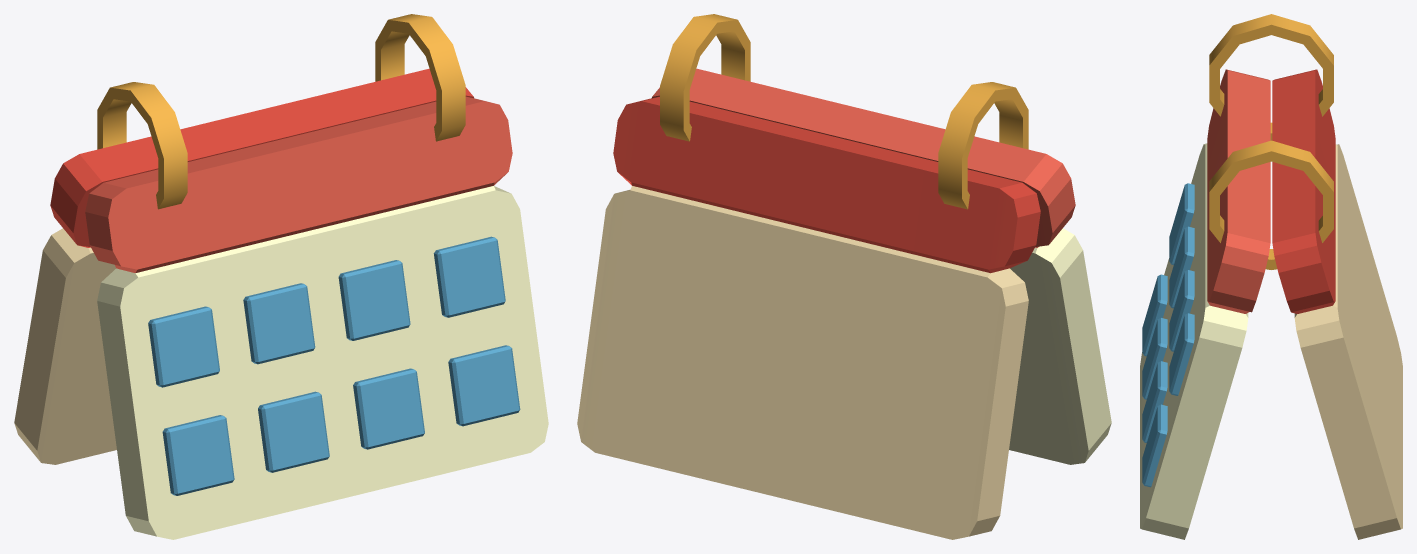
The model's file is Calendar1.fbx.
3 renders of one model, left to right at view 1: azimuth 30°, elevation 25°; view 2: azimuth 150°, elevation 25°; view 3: azimuth 270°, elevation 25°, orthographic. The views are drawn at different scales.
Parts seen in each view (by area): view 1: Calendar1; view 2: Calendar1; view 3: Calendar1.
Part boxes in pixels (left/top/right/bottom): Calendar1: left=14, top=14, right=548, bottom=539; Calendar1: left=577, top=14, right=1111, bottom=539; Calendar1: left=1140, top=14, right=1402, bottom=539.
Bounding box in the file's own units: 1.69 × 1.62 × 1.03.
